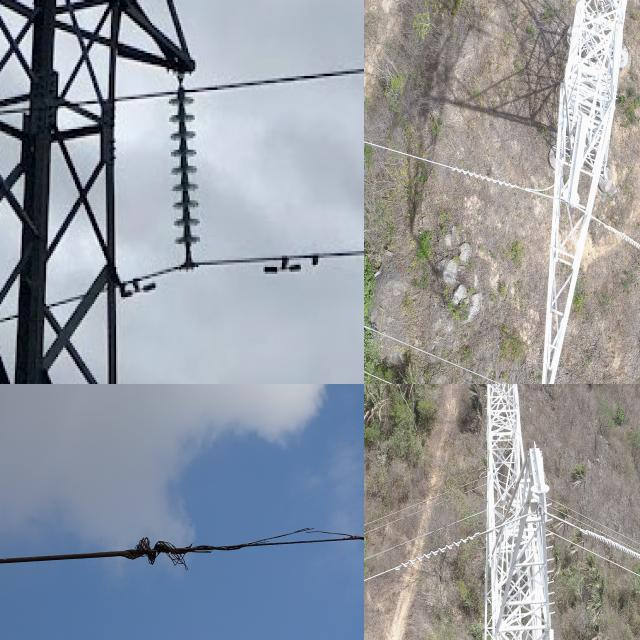杆塔: (0, 0, 195, 384), (540, 0, 640, 384), (488, 384, 540, 640)
正常电缆: (364, 525, 483, 587), (364, 481, 484, 540), (364, 505, 483, 564), (557, 531, 640, 583), (557, 513, 640, 561)
正常绝缘子: (160, 71, 207, 265)
电缆破损: (125, 518, 364, 575)
